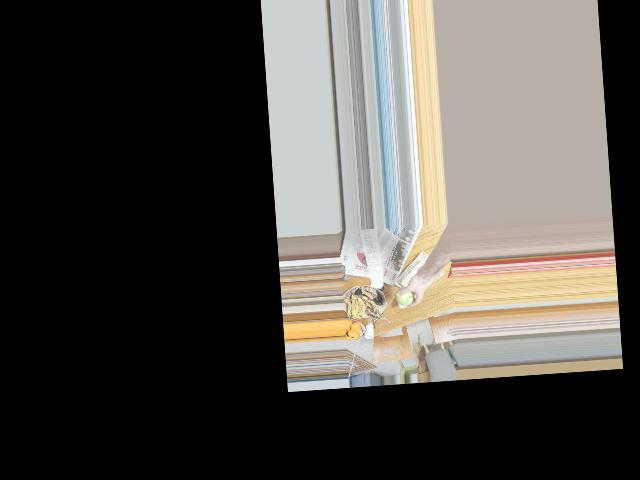apple: (394, 278, 419, 306)
